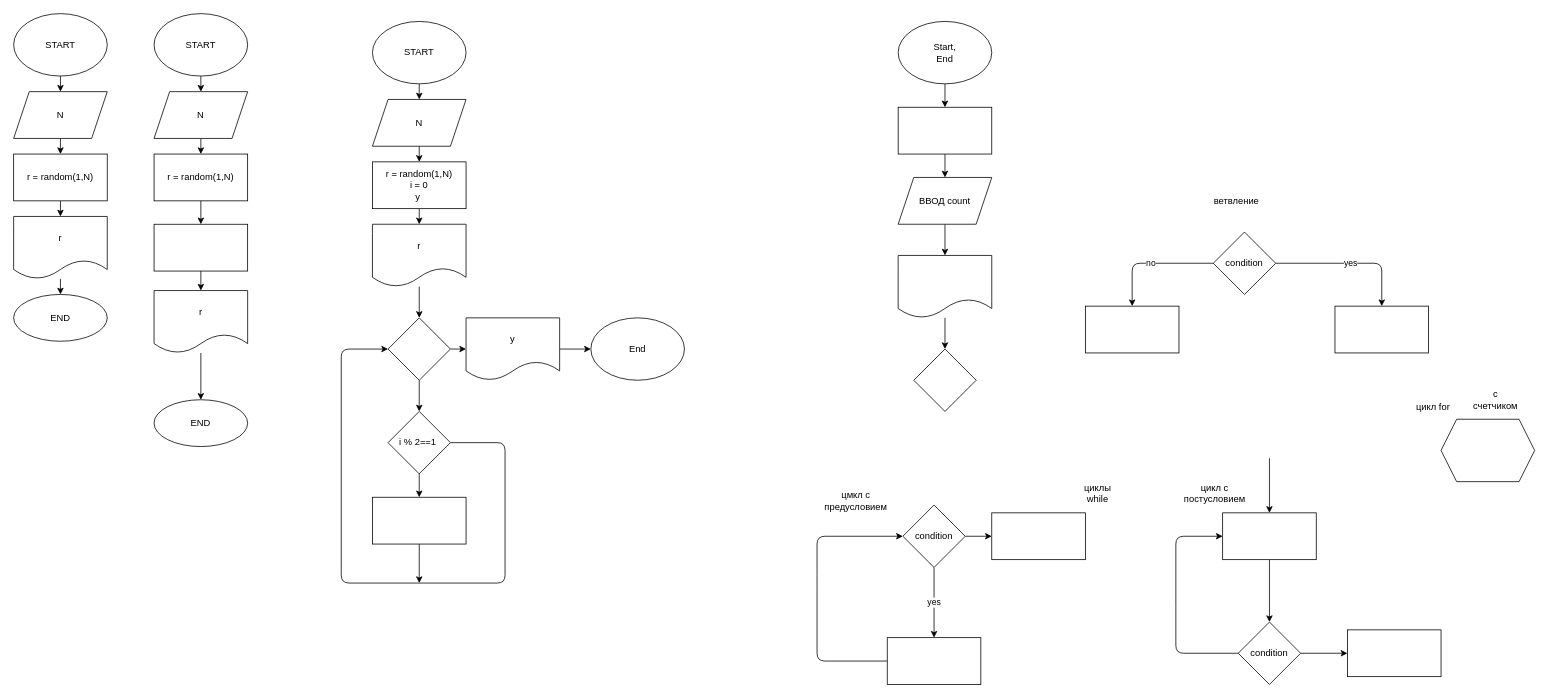
This 1548x698 diagram has some shape labels left out. The shapes that lost their labels are listed below. From the top down, each one's centre as x and y in pixels, then its label:
pixel 944 130: count = 0 res = 1 * Sqrt(2)
pixel 200 247: r+= r*r
pixel 944 286: ВЫВОД res
pixel 418 348: i < N
pixel 1487 450: count = 1, 10, 5
pixel 419 520: i+= 1 y ==i
